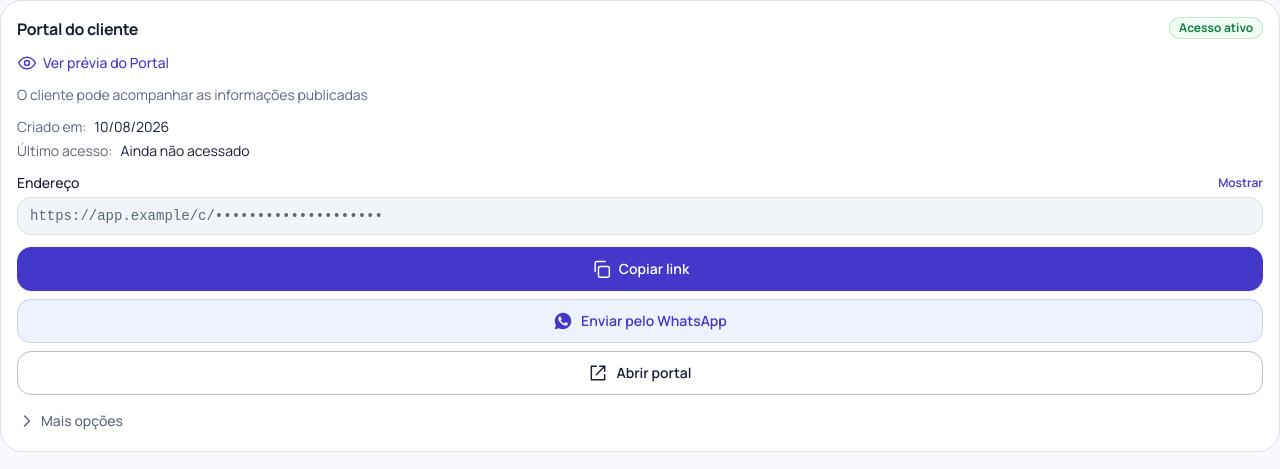
ClientPortalCard › copies after a GET-loaded URL without creating a new link
What coordinates should you click on to do the following:
click the button "Copiar link"
I would click on:
 (640, 269)
Its box is top-left (17, 247), bottom-right (1263, 291).
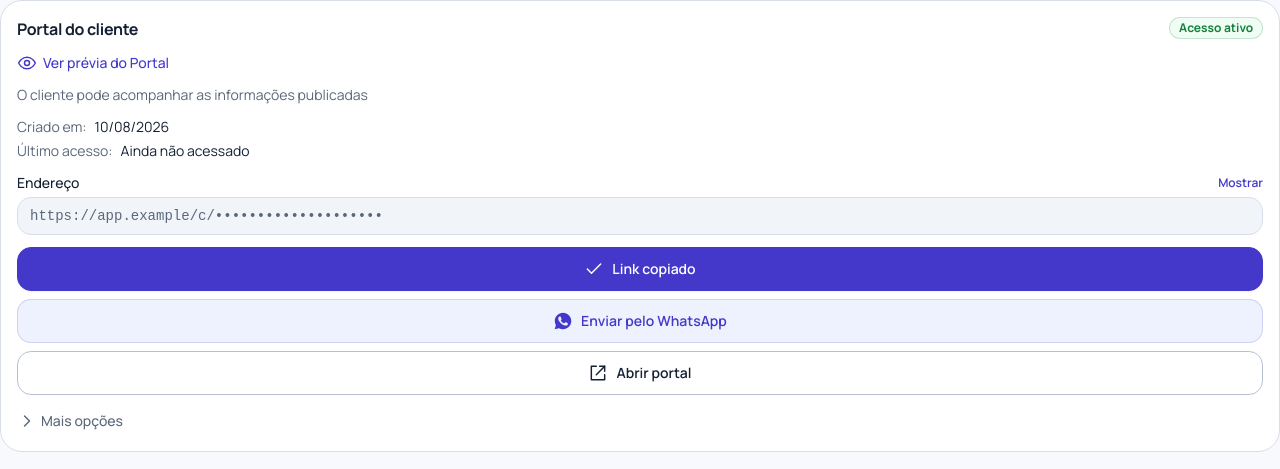
Now the text "Link copiado" is shown, box top-left (584, 259), bottom-right (696, 279)
